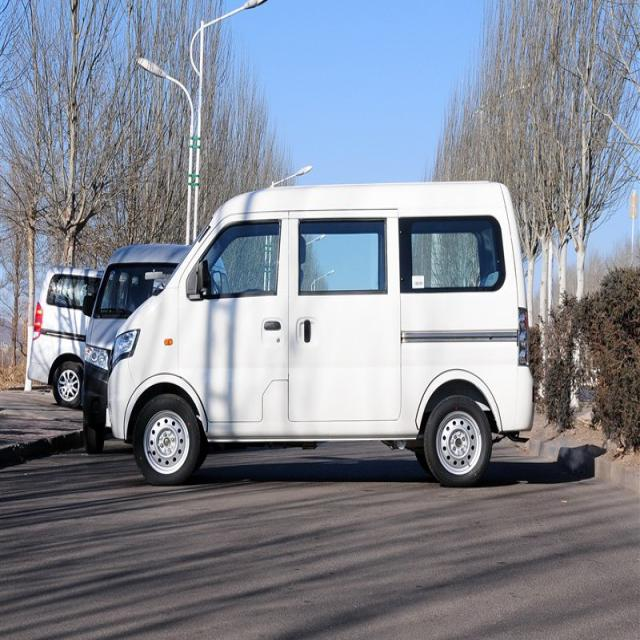back_left_side_light: (516, 304, 530, 368)
door: (282, 206, 406, 422)
front_left_side_door: (177, 211, 289, 423)
front_left_side_light: (110, 328, 140, 367)
front_left_side_mirror: (196, 258, 210, 300)
wheel: (423, 395, 491, 487), (135, 393, 198, 485)
